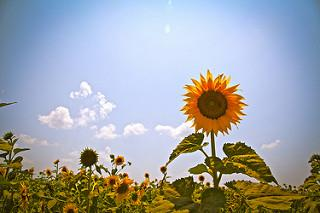sunflower: (181, 70, 248, 136), (79, 148, 99, 168), (130, 190, 142, 206), (108, 174, 119, 189), (63, 202, 77, 213), (114, 155, 125, 166)
